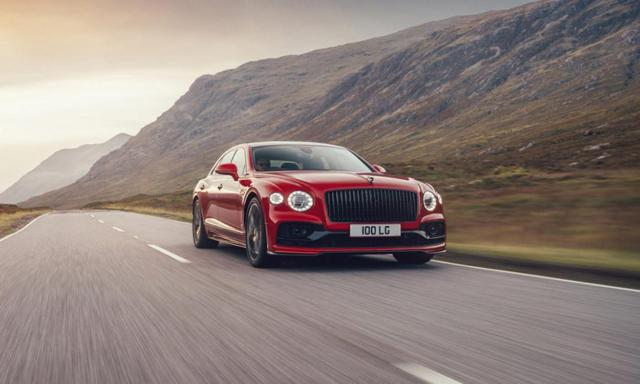bentley: (190, 140, 448, 268)
